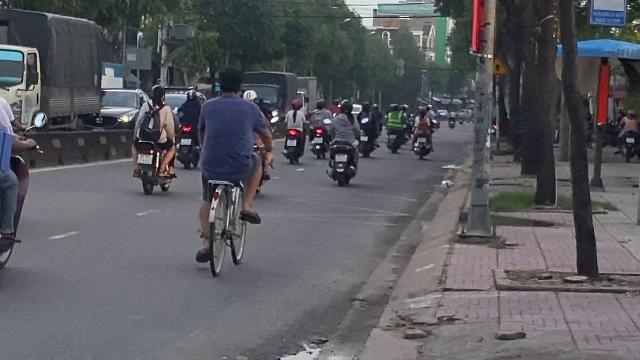licenseplate: (136, 154, 152, 164)
motorcyclist: (127, 82, 177, 196)
nohelmet: (149, 85, 165, 105)
